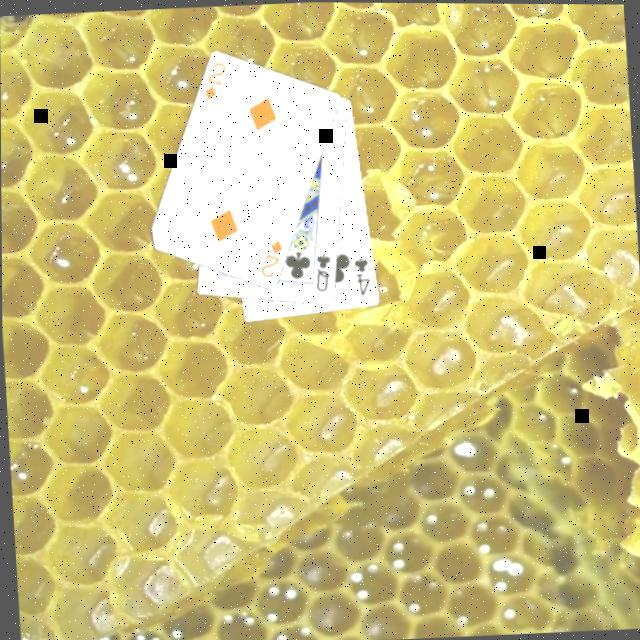2D: (257, 238, 289, 282), (202, 60, 232, 105)
4C: (352, 255, 375, 300)
QC: (313, 251, 336, 296)
